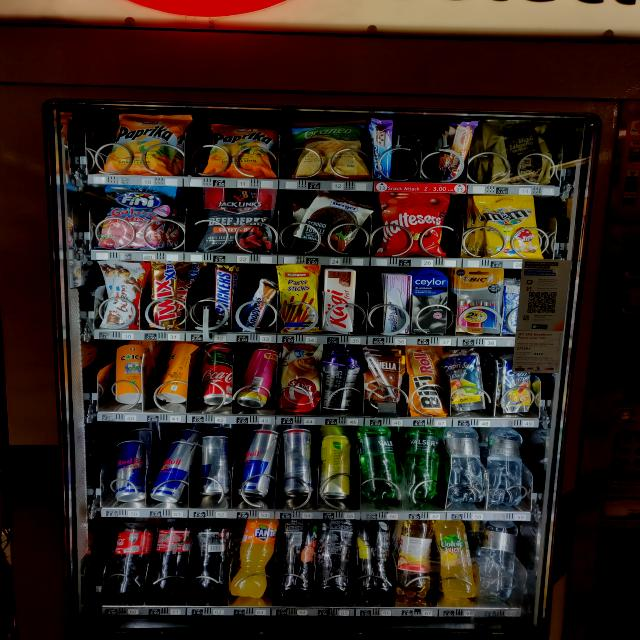7days_croissantschoko_packung_80_1_0000000000003: (275, 346, 322, 414)
berger_schoggitoertli____: (298, 194, 370, 253)
bifi_roll__50__4251097402635: (405, 344, 450, 416)
bueno___43__4008400320328: (102, 261, 144, 330)
c-swiss_dosenabisicetea__33__9120025930135: (158, 341, 198, 403), (110, 345, 144, 404)
caferoyal_classicmacchiato__33__7617014164487: (322, 353, 362, 411)
caprisun_multivitamin__20__4000177605004: (450, 350, 497, 413), (500, 359, 535, 413)
coke__dose_33__54491472: (203, 344, 234, 406)
coke__flasche_50__54491472: (102, 518, 153, 595), (145, 518, 190, 593)
coke_zero_flasche_50__5449000131836: (192, 518, 230, 592)
comella_schokodrink__33__7613100037253: (362, 352, 407, 408)
fanta___50__40822938: (233, 518, 280, 599)
fini_galaxymix_packung_100_1_8410525150364: (98, 182, 176, 246)
fuse_lemon__50__5449000235947: (356, 520, 396, 597)
fuse_lemon_dose_33__5449000235947: (319, 435, 353, 498)
fuse_peach__50__5449000236623: (316, 520, 356, 594), (280, 519, 316, 594)
jacklinks_beefjerkyorginal__25__4047751730219: (194, 187, 280, 254)
jlbrichard_gauffrechoko__90__5410495002079: (475, 119, 556, 182)
kagi___50__7610046000259: (321, 269, 358, 335)
knoppers_riegel____4035800488808: (242, 278, 278, 330)
malburner_partysticks__40__7610200279682: (279, 264, 320, 333)
maltesers___100__5000159023061: (374, 193, 459, 257)
milka_oreo_riegel_37_1_7622210704740: (373, 121, 395, 178)
milka_peanutbutter____: (443, 122, 478, 182)
mnms_gelb__45__40111445: (478, 196, 547, 258)
ramseier_schorle__50__7610057012456: (395, 518, 435, 600)
redbull___33__90162909: (233, 430, 280, 500), (148, 442, 195, 503), (284, 426, 319, 498), (111, 440, 151, 500), (198, 436, 229, 497)
snickers___50__5000159461122: (210, 263, 239, 330)
tiki_himbeerbrause_dose_33_1_: (236, 344, 279, 408)
twix___50__5000159459228: (149, 263, 182, 330)
valser_classic__50__76404160: (359, 427, 400, 501), (401, 430, 443, 501)
valser_still__50__7610335002575: (476, 520, 520, 601), (487, 427, 528, 508), (446, 427, 487, 500)
volvic_pinapple__50__305764335648: (431, 521, 477, 600)
zweifel_graneochilli__100__7610095184009: (292, 117, 364, 183)
zweifel_paprika__90__7610095013002: (100, 111, 191, 179), (199, 124, 283, 178)
